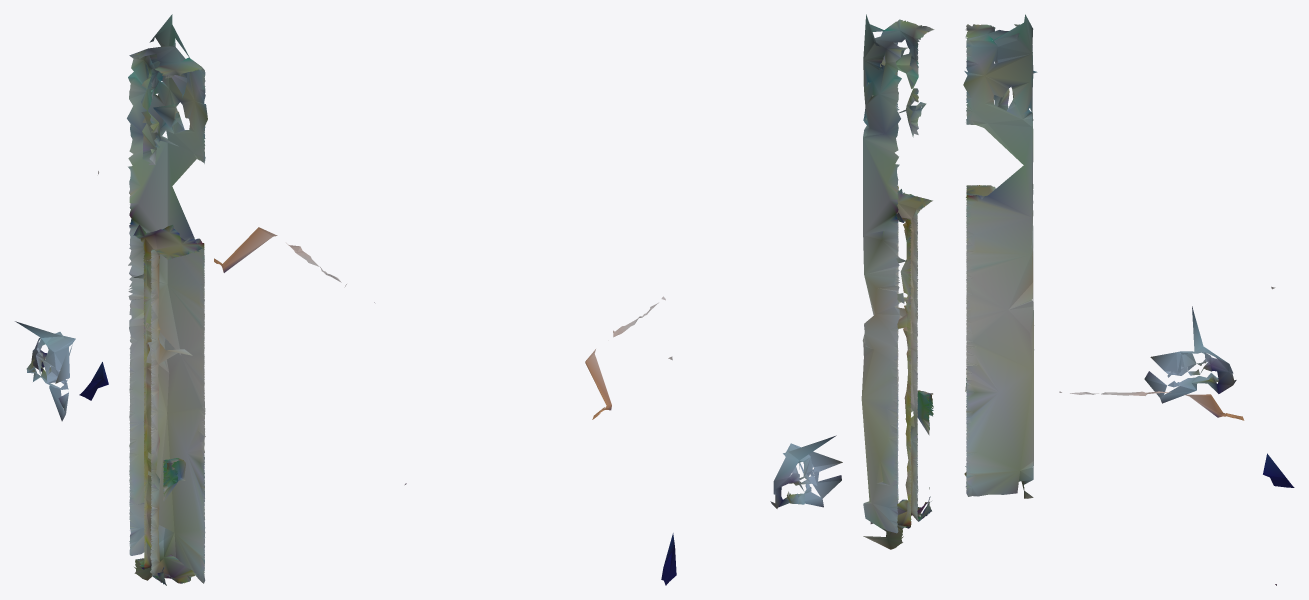
3 renders of one model, left to right at view 1: azimuth 30°, elevation 25°; view 2: azimuth 150°, elevation 25°; view 3: azimuth 270°, elevation 25°, orthographic. The views are drawn at different scales.
Size of the model in its own units: 6.27 by 8.2 by 4.97.
